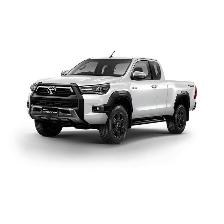NON-EV: (28, 51, 200, 148)
